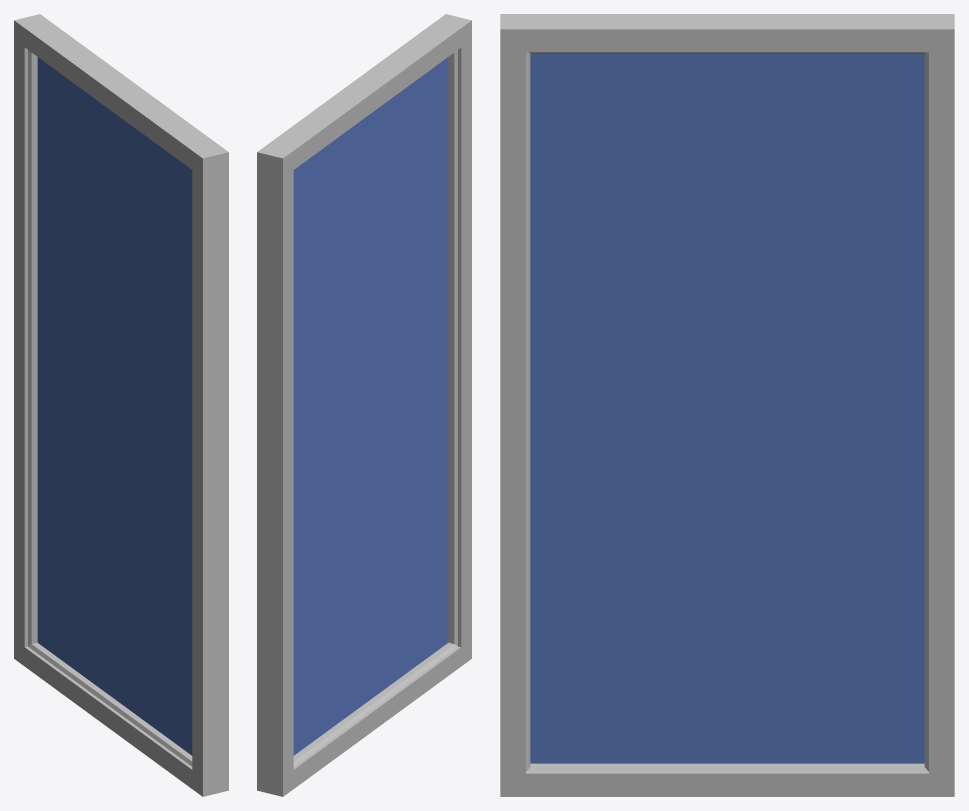
Rendered from win26.fbx.
3 renders of one model, left to right at view 1: azimuth 30°, elevation 25°; view 2: azimuth 150°, elevation 25°; view 3: azimuth 270°, elevation 25°, orthographic. The views are drawn at different scales.
Parts seen in each view (by area): view 1: Cylinder_2_2_2; view 2: Cylinder_2_2_2; view 3: Cylinder_2_2_2.
Boxes of the visible parts, left/top/right/bottom form: Cylinder_2_2_2: left=14, top=14, right=228, bottom=796; Cylinder_2_2_2: left=257, top=14, right=471, bottom=796; Cylinder_2_2_2: left=500, top=14, right=954, bottom=796.
Size of the model in its own units: 9.87 by 231 by 124.
